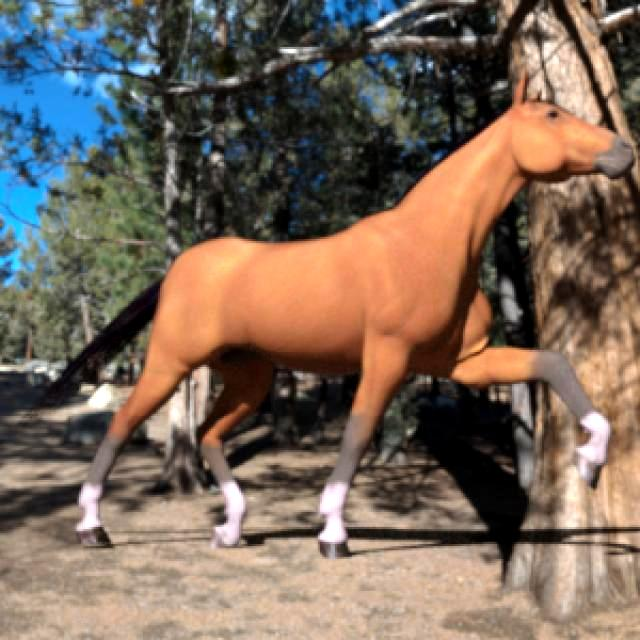horse: (42, 79, 634, 556)
